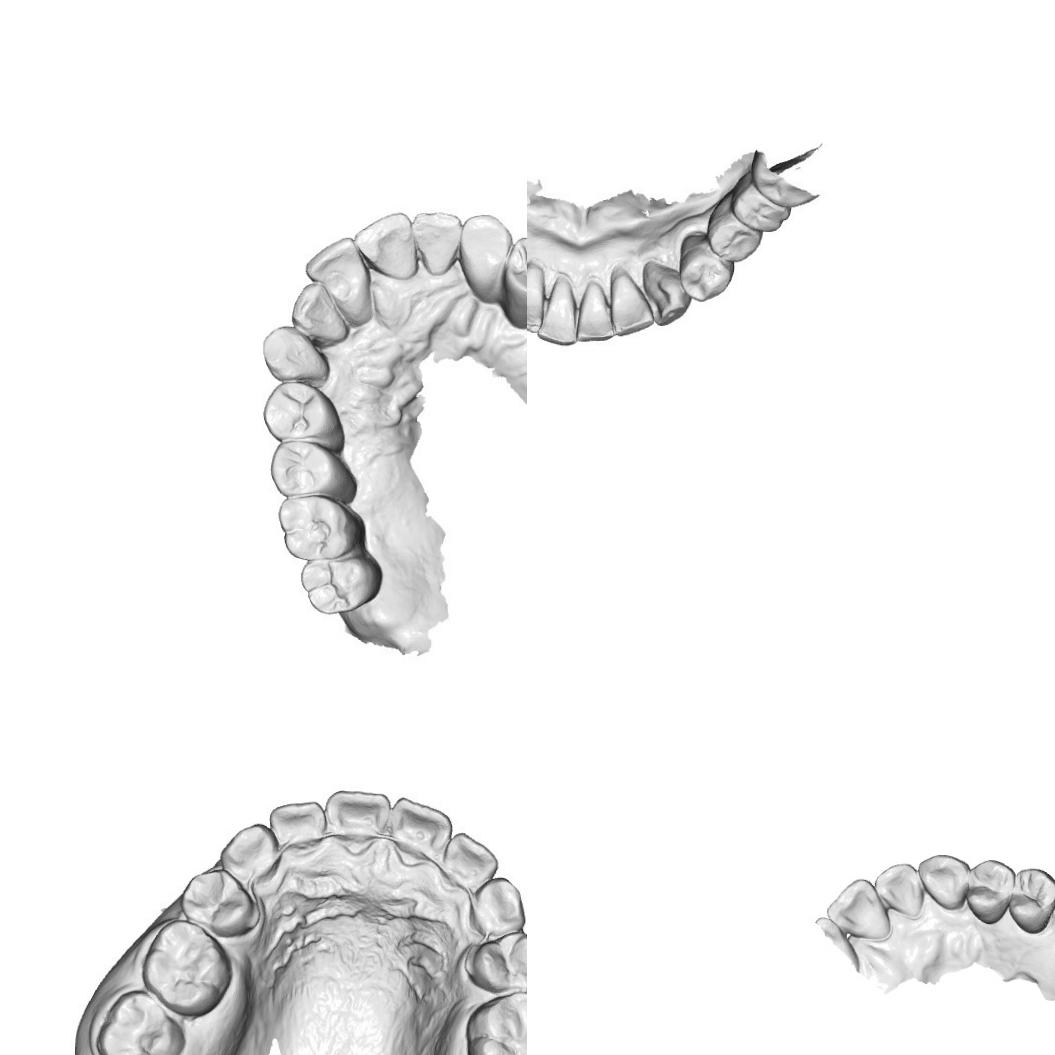canine: (455, 206, 514, 306), (262, 320, 328, 384), (467, 874, 527, 936), (222, 822, 282, 882), (916, 851, 971, 913), (644, 262, 691, 330)
incisor: (305, 238, 368, 318), (822, 876, 893, 943), (387, 792, 451, 856), (288, 286, 352, 346), (358, 216, 416, 282), (870, 860, 930, 922), (410, 210, 460, 276), (329, 790, 391, 843), (269, 801, 323, 858), (446, 832, 496, 888), (608, 266, 650, 329), (538, 279, 579, 341), (578, 274, 614, 337), (527, 265, 547, 327)
molar: (145, 920, 228, 1010), (276, 493, 369, 560), (298, 552, 382, 618), (96, 991, 179, 1055), (729, 168, 796, 238), (466, 992, 527, 1055)
premolar: (260, 378, 351, 454), (268, 438, 359, 506), (182, 866, 256, 938), (702, 190, 762, 265), (680, 228, 730, 302), (964, 857, 1014, 928), (470, 932, 527, 993), (1006, 866, 1055, 936), (507, 232, 527, 330)
